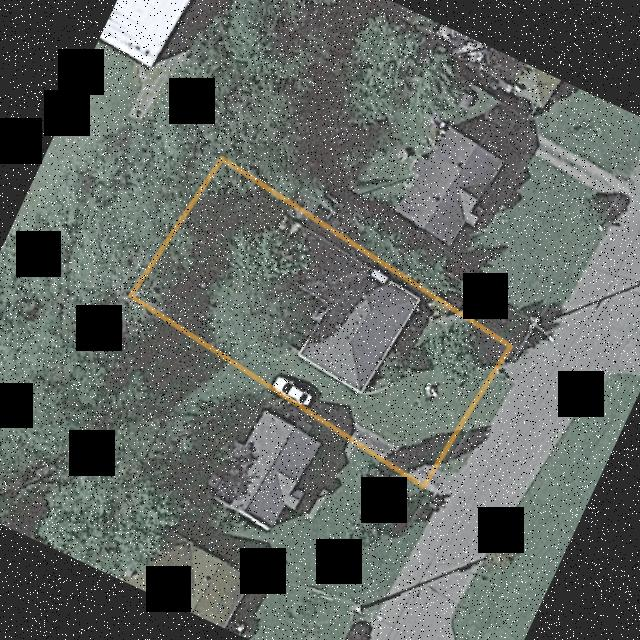Driveway: (270, 370, 429, 480)
House: (254, 215, 420, 396)
